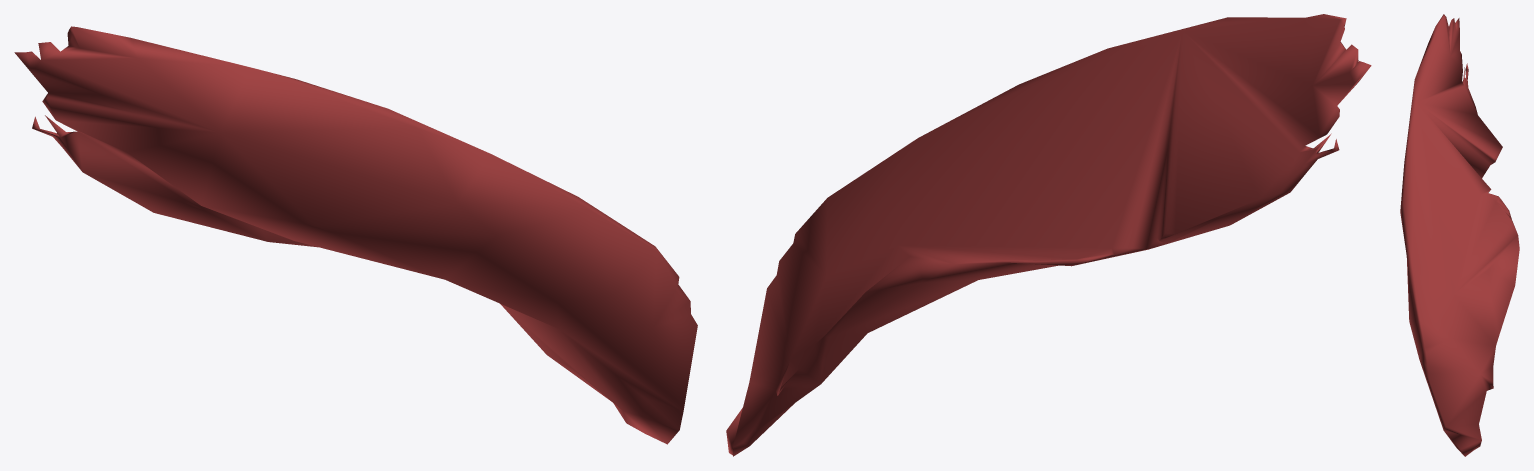
File: corrugator-supercilii-r.glb
3 renders of one model, left to right at view 1: azimuth 30°, elevation 25°; view 2: azimuth 150°, elevation 25°; view 3: azimuth 270°, elevation 25°, orthographic. The views are drawn at different scales.
Visible parts, largest first — view 1: Corrugator supercilii.r; view 2: Corrugator supercilii.r; view 3: Corrugator supercilii.r.
Part boxes in pixels (x1,y1,x2,y2): Corrugator supercilii.r: (14,26,697,444); Corrugator supercilii.r: (726,14,1371,456); Corrugator supercilii.r: (1400,14,1519,456).
Bounding box in the file's own units: 0.0227 × 0.019 × 0.00703.
